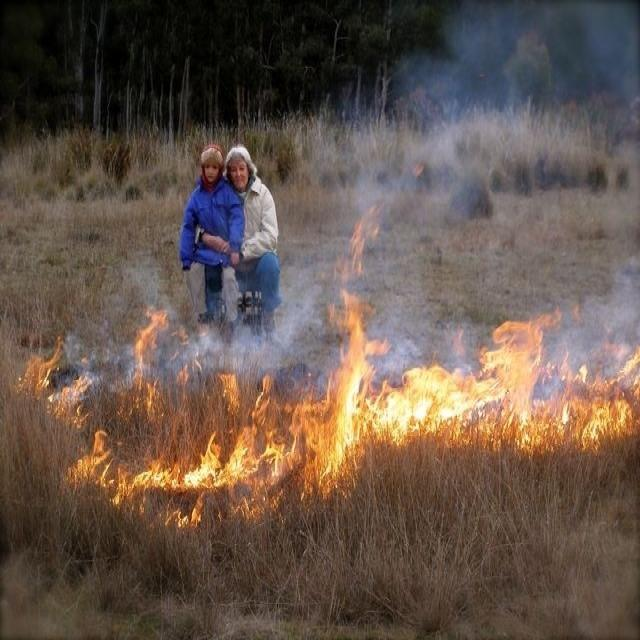Fire: (32, 297, 628, 531)
Smoke: (329, 0, 639, 345)
